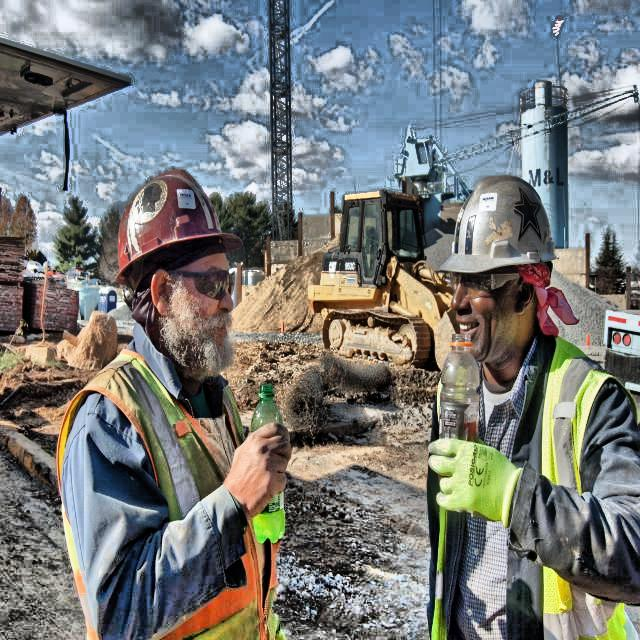person: (44, 160, 288, 638), (416, 158, 634, 628)
